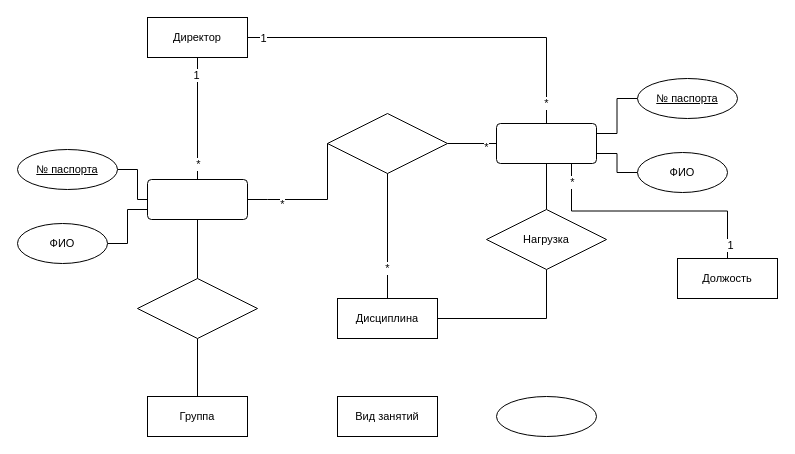
Image size: 795x454. Some labels were removed from this diagram. The centre of each missing label's shape, as x and y in pixels:
Ведомость: the point at 387,143
Вид: the point at 546,416
Обучается: the point at 197,308
Преподаватель: the point at 546,143
Студент: the point at 197,199
